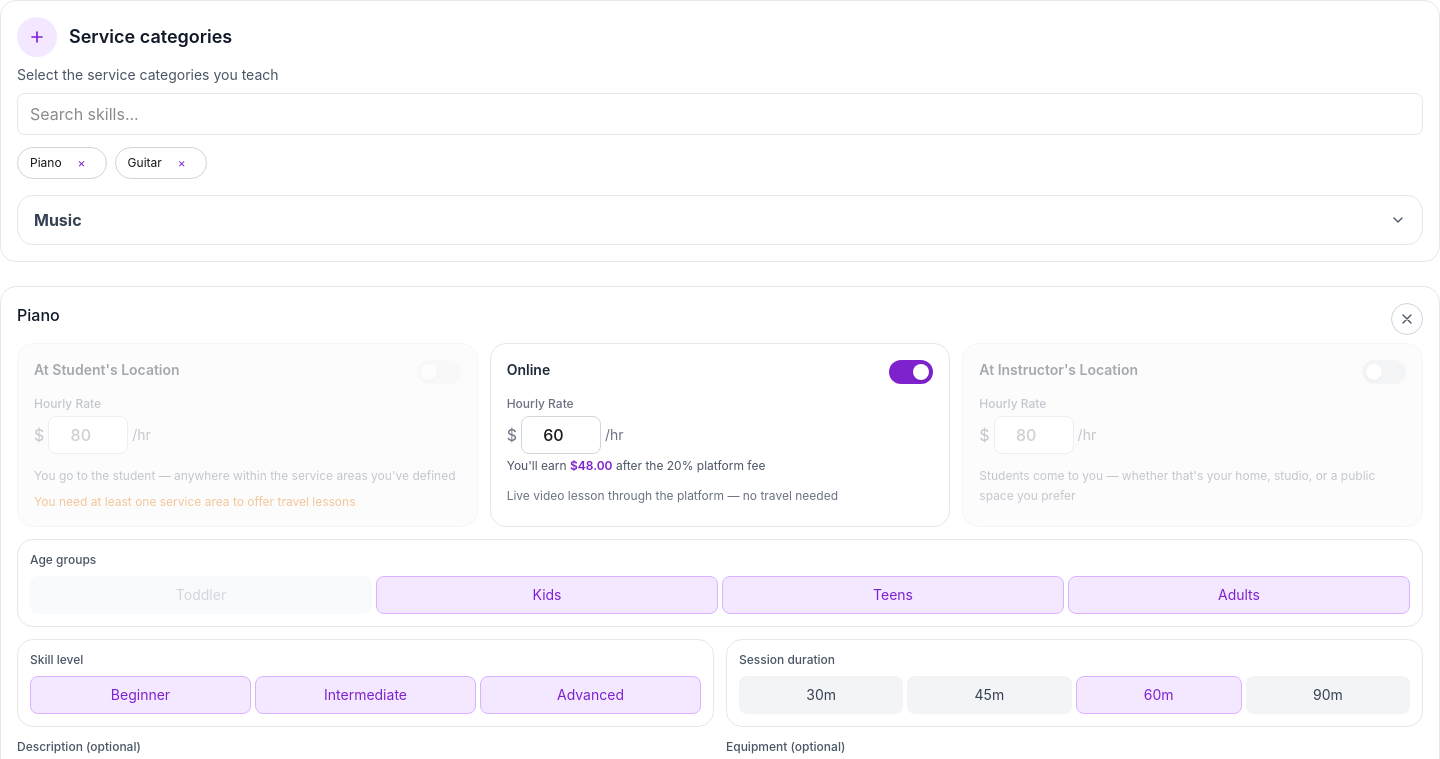
Test: SkillsPricingInline › Batch 9 — uncovered branch coverage › blocks save when another selected service has an empty enabled rate
// Trigger autosave
Type "65" into the 2nd number field.
click(561, 435); type("65")  # box [521,416,601,454]
Wait 1200 ms
(page scrolled)
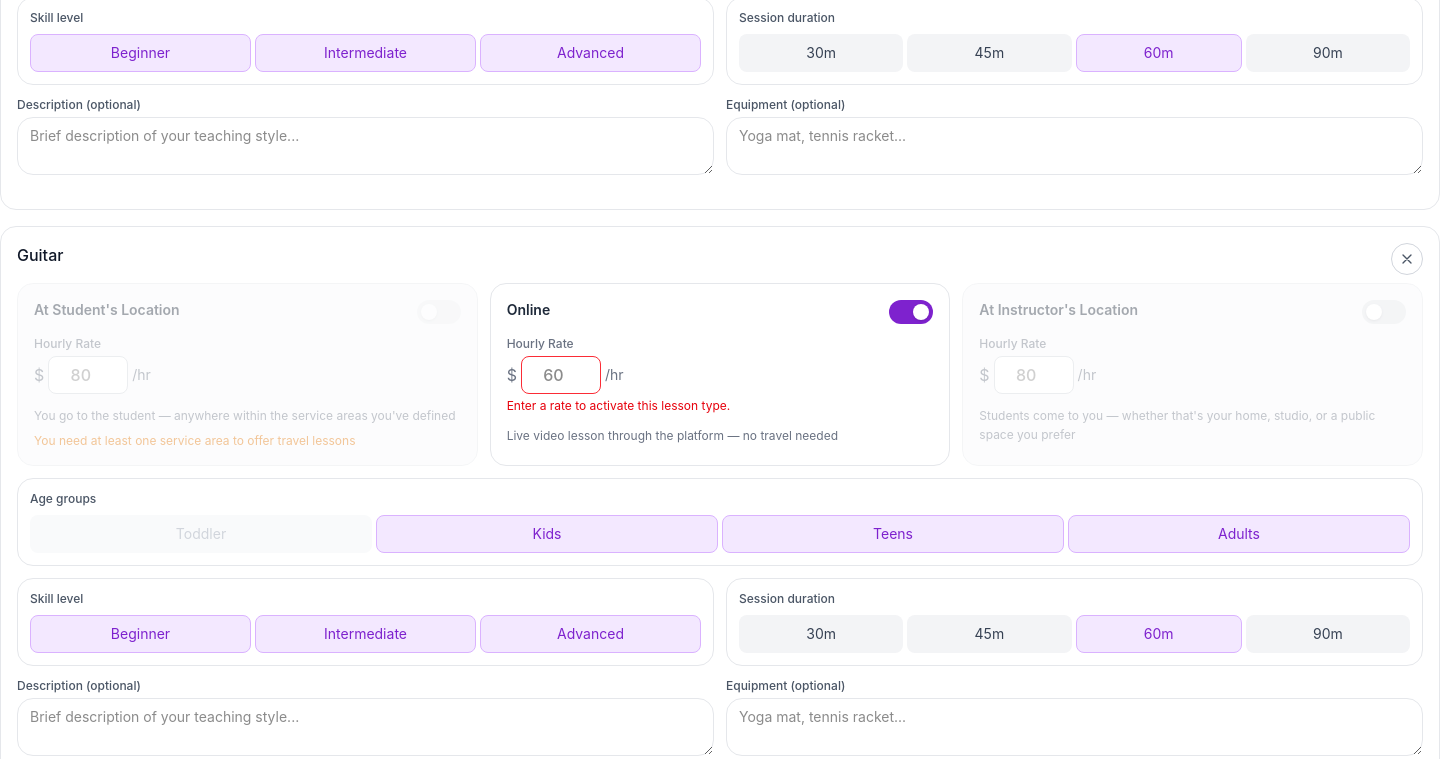
Check: the text "Enter a rate to activate this lesson type." is shown, box [507,398,730,412]
